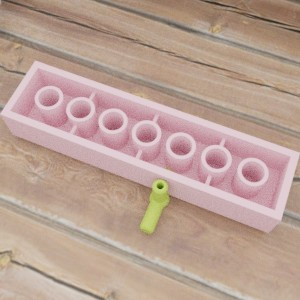lego: (0, 60, 299, 233), (139, 165, 178, 233)
